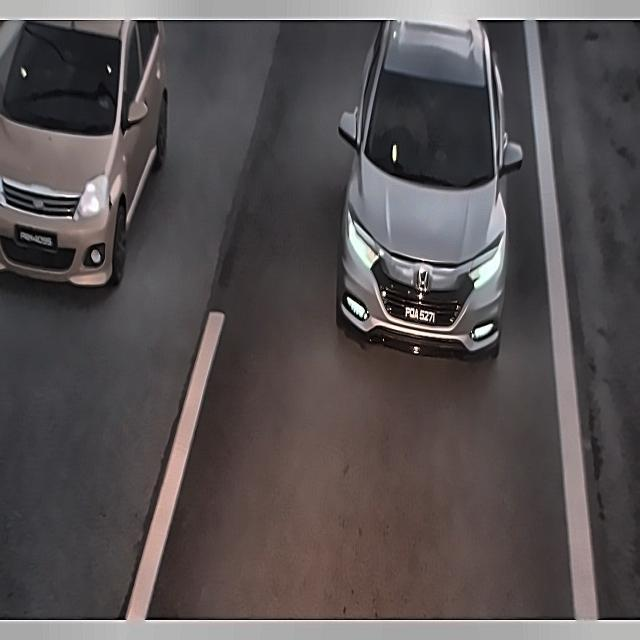car: (9, 223, 61, 259), (401, 298, 440, 332)
